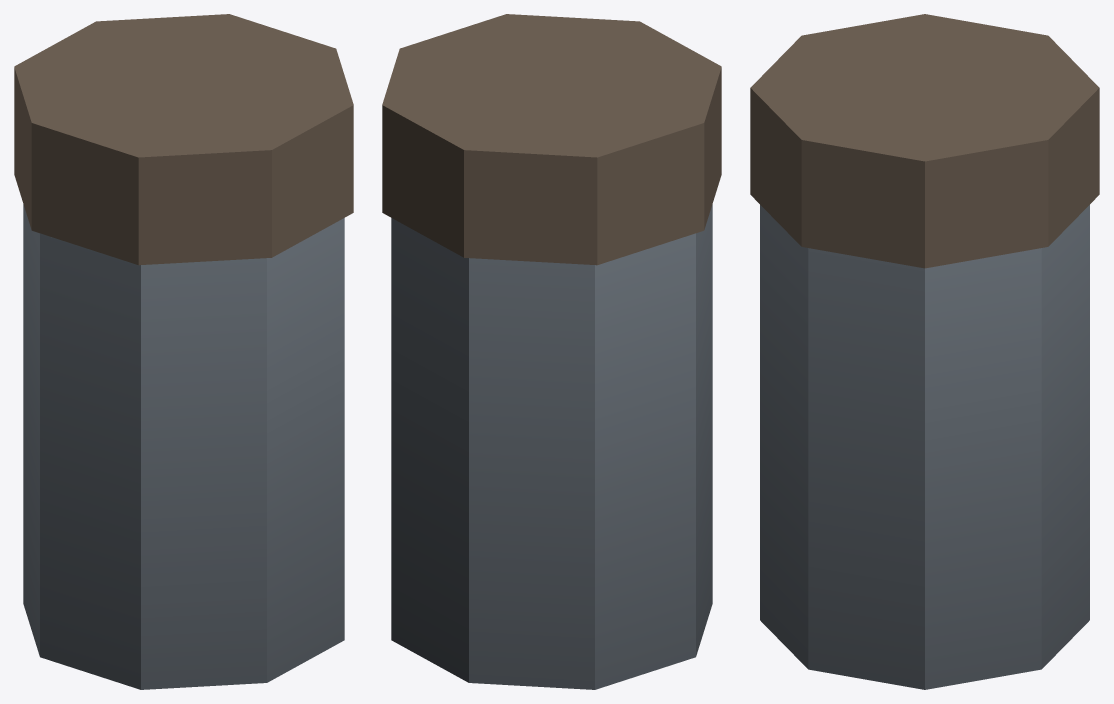
Rendered from KitchenProps_09.fbx.
The picture shows the model from 3 angles, left to right: view 1: azimuth 30°, elevation 25°; view 2: azimuth 150°, elevation 25°; view 3: azimuth 270°, elevation 25°; orthographic projection.
Visible parts, largest first — view 1: KitchenProps_09; view 2: KitchenProps_09; view 3: KitchenProps_09.
Part boxes in pixels (left/top/right/bottom): KitchenProps_09: left=14, top=14, right=353, bottom=689; KitchenProps_09: left=382, top=14, right=721, bottom=689; KitchenProps_09: left=750, top=14, right=1099, bottom=689.
Size of the model in its own units: 12.68 by 21.35 by 12.68.
